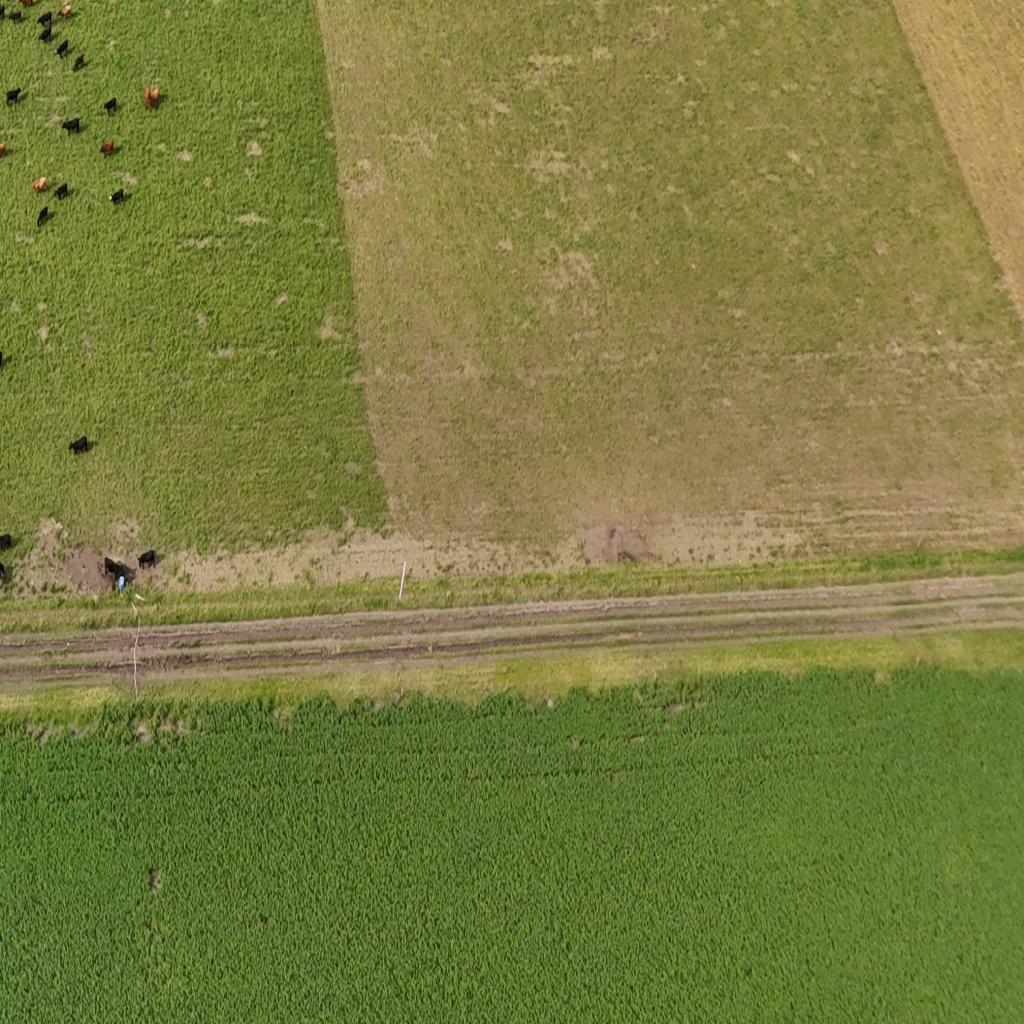cow: (0, 2, 25, 26), (113, 562, 136, 584), (145, 84, 161, 109), (69, 436, 89, 455), (138, 550, 156, 571), (61, 118, 80, 136), (104, 556, 120, 577), (6, 87, 22, 106), (37, 205, 50, 228), (0, 346, 12, 370), (55, 39, 69, 59), (44, 204, 56, 226), (32, 176, 48, 192), (109, 188, 124, 205), (100, 139, 114, 157), (103, 98, 117, 116), (38, 11, 52, 29), (0, 533, 13, 552), (55, 183, 68, 201), (39, 26, 52, 44), (73, 55, 85, 72), (59, 4, 72, 18), (18, 0, 36, 9), (0, 563, 7, 584), (0, 142, 8, 158), (68, 440, 77, 453), (0, 3, 6, 21)
